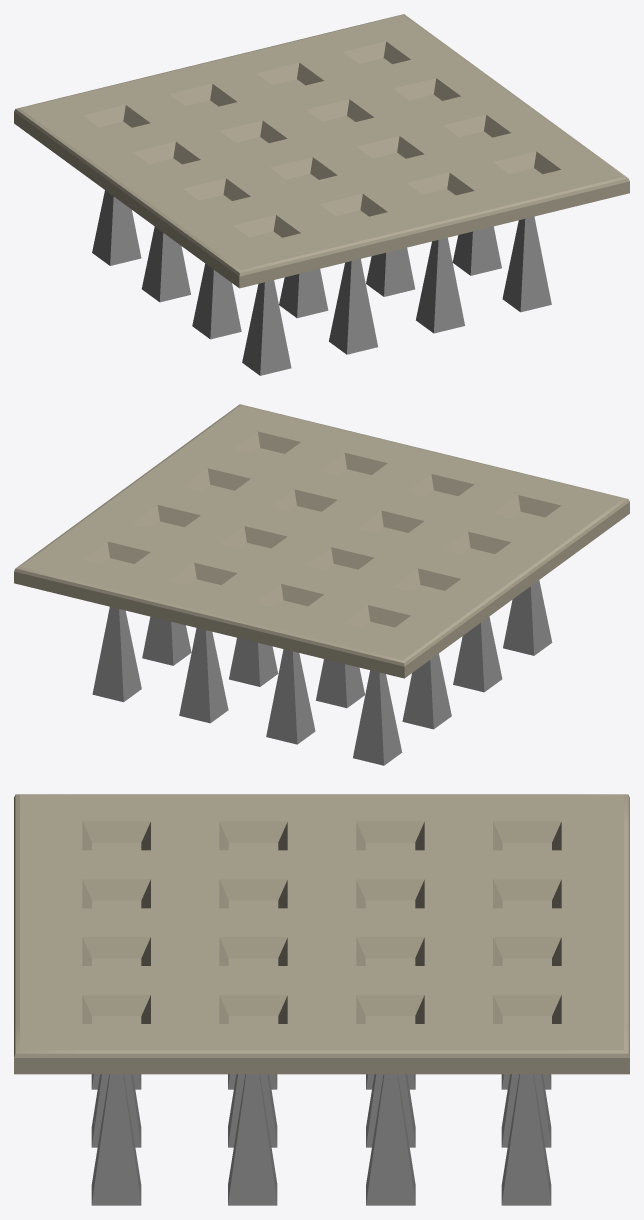
The model's file is Spikes_LP.fbx.
3 views of the same model, one above another, from view 1: azimuth 30°, elevation 25°; view 2: azimuth 150°, elevation 25°; view 3: azimuth 270°, elevation 25° (orthographic). The views are drawn at different scales.
Visible parts, largest first — view 1: Floor_LP1, Spikes; view 2: Floor_LP1, Spikes; view 3: Floor_LP1, Spikes.
Part boxes in pixels (x1,y1,x2,y2): Floor_LP1: [14, 14, 629, 288]; Spikes: [92, 190, 551, 375]; Floor_LP1: [14, 404, 629, 678]; Spikes: [92, 580, 552, 765]; Floor_LP1: [14, 794, 629, 1074]; Spikes: [91, 1074, 551, 1205].
Size of the model in its own units: 130 by 43.27 by 130.
